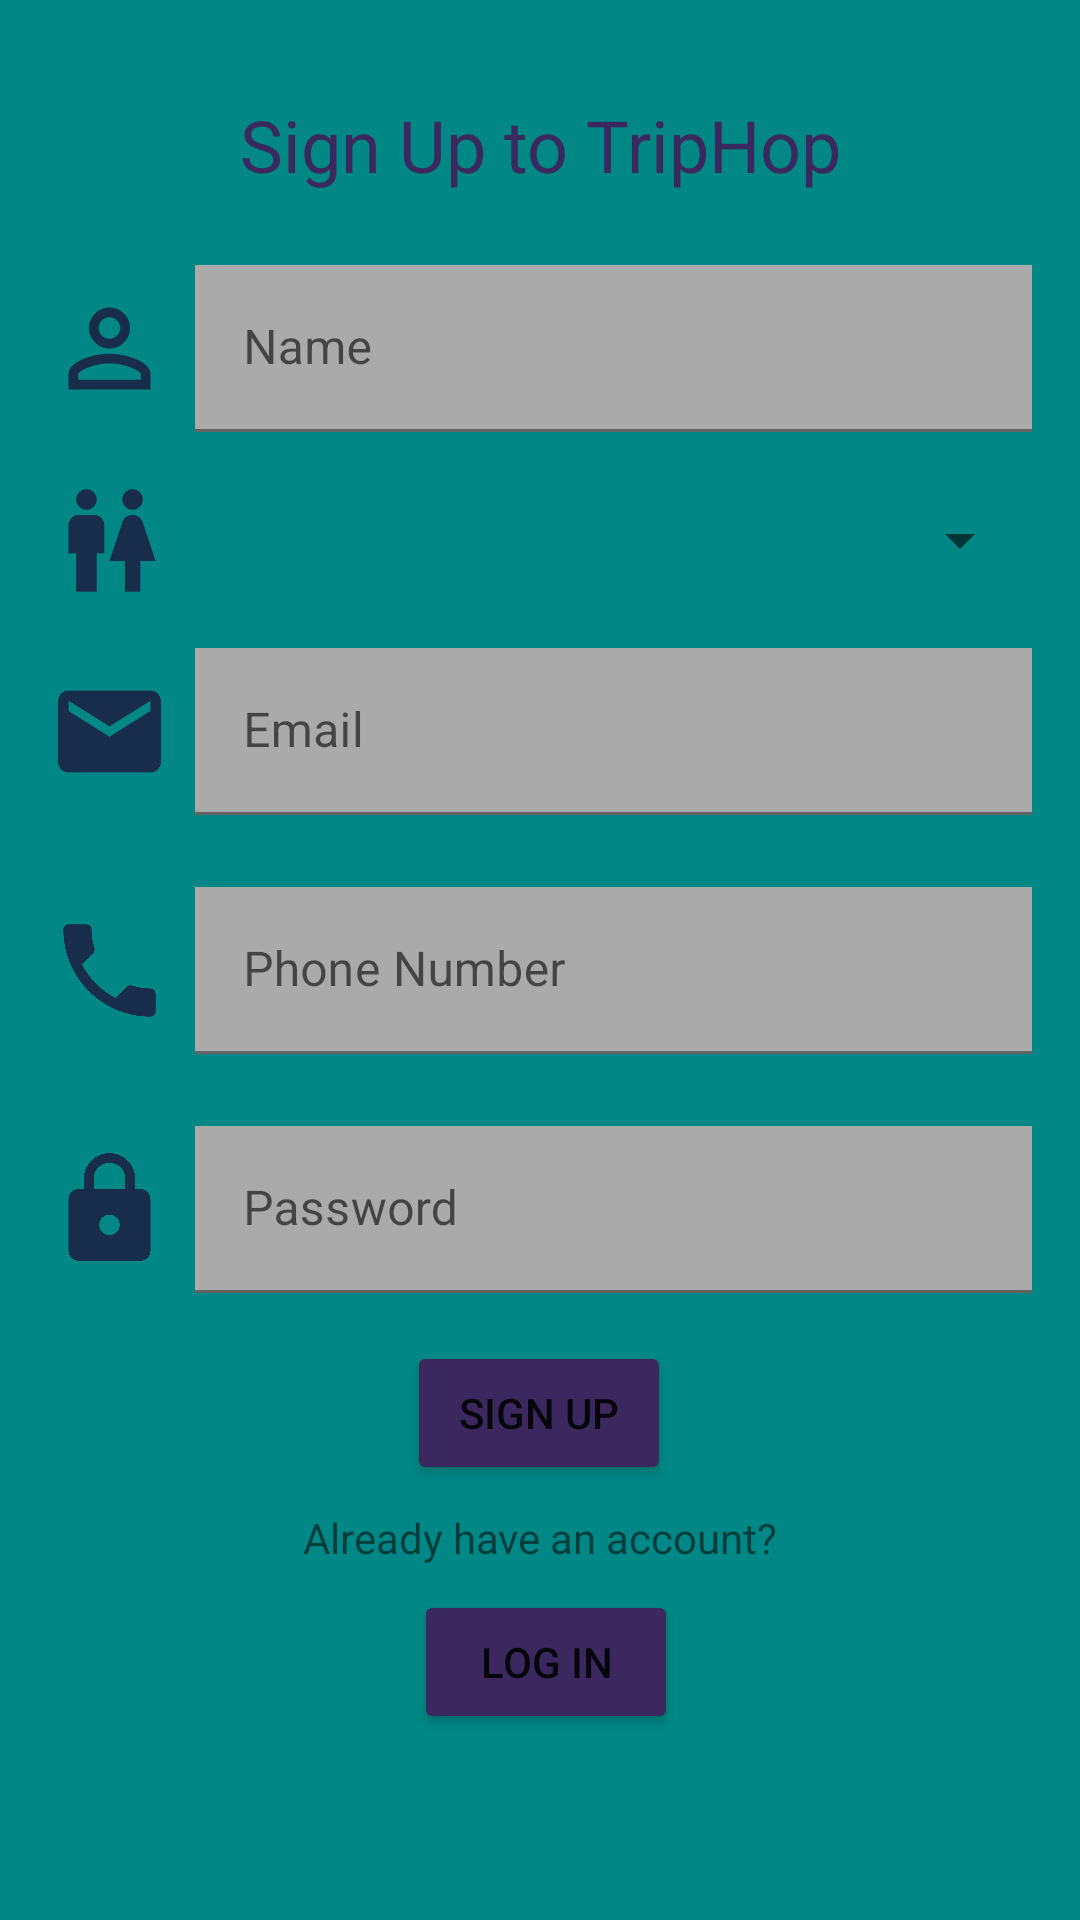

Screen size 1080px×1920px. Icon name, then its box in pixels as bbox=(x1, y1, x2, y2):
lock: bbox=(68, 1153, 151, 1261)
person: bbox=(68, 307, 151, 390)
